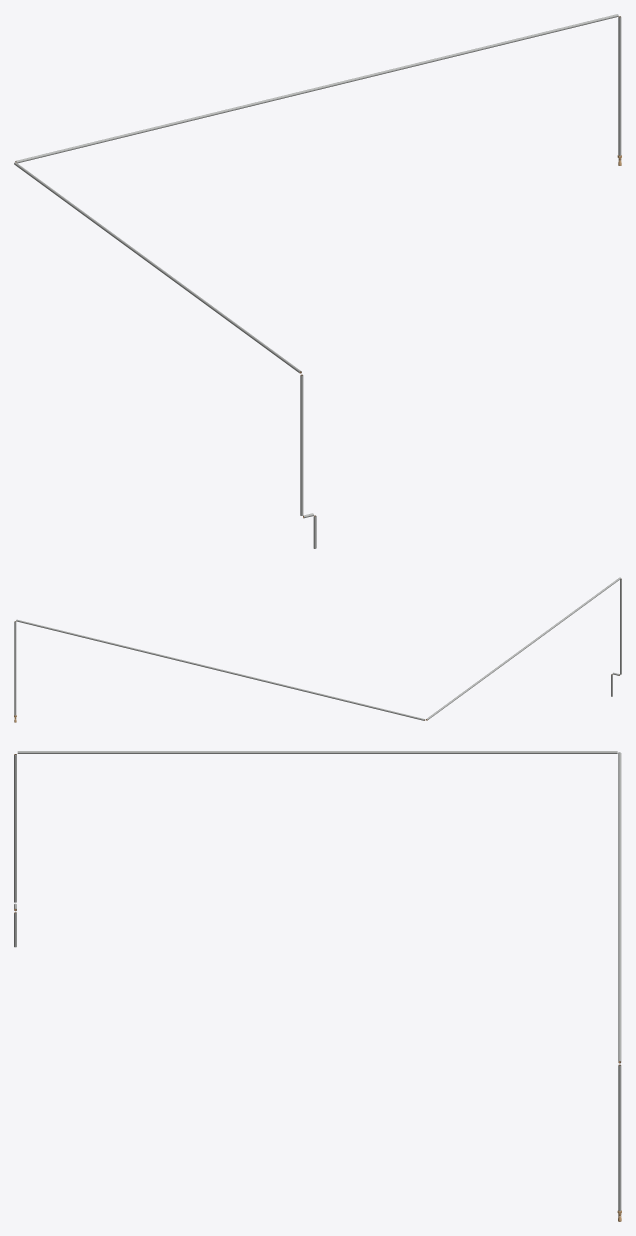
File: pipes_supply__water-well_and_softener-yes_and_flowsmart-yes_and_plumbing-galvanized__r4t.glb
3 views of the same model, one above another, from view 1: azimuth 30°, elevation 25°; view 2: azimuth 150°, elevation 25°; view 3: azimuth 270°, elevation 25° (orthographic). The views are drawn at different scales.
Visible parts, largest first — view 1: pipe_supply_well_to_softener_fs__galvanized; view 2: pipe_supply_well_to_softener_fs__galvanized; view 3: pipe_supply_well_to_softener_fs__galvanized.
Boxes of the visible parts, left/top/right/bottom form: pipe_supply_well_to_softener_fs__galvanized: left=14, top=14, right=621, bottom=548; pipe_supply_well_to_softener_fs__galvanized: left=14, top=577, right=621, bottom=720; pipe_supply_well_to_softener_fs__galvanized: left=14, top=751, right=621, bottom=1211.
Bounding box in the file's own units: 6.45 × 1.82 × 5.31.
